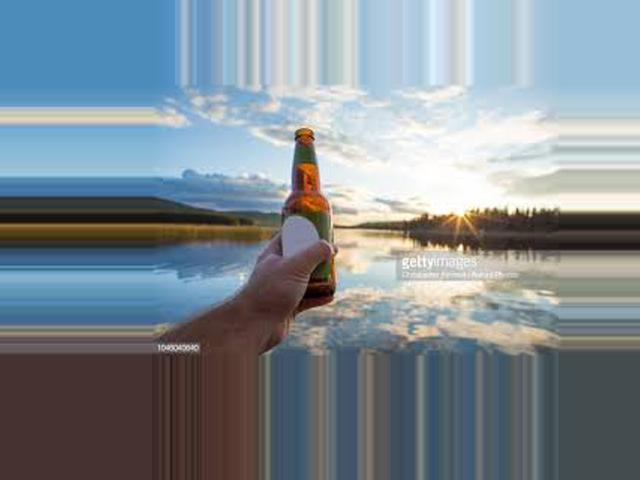beer: (280, 126, 338, 296)
